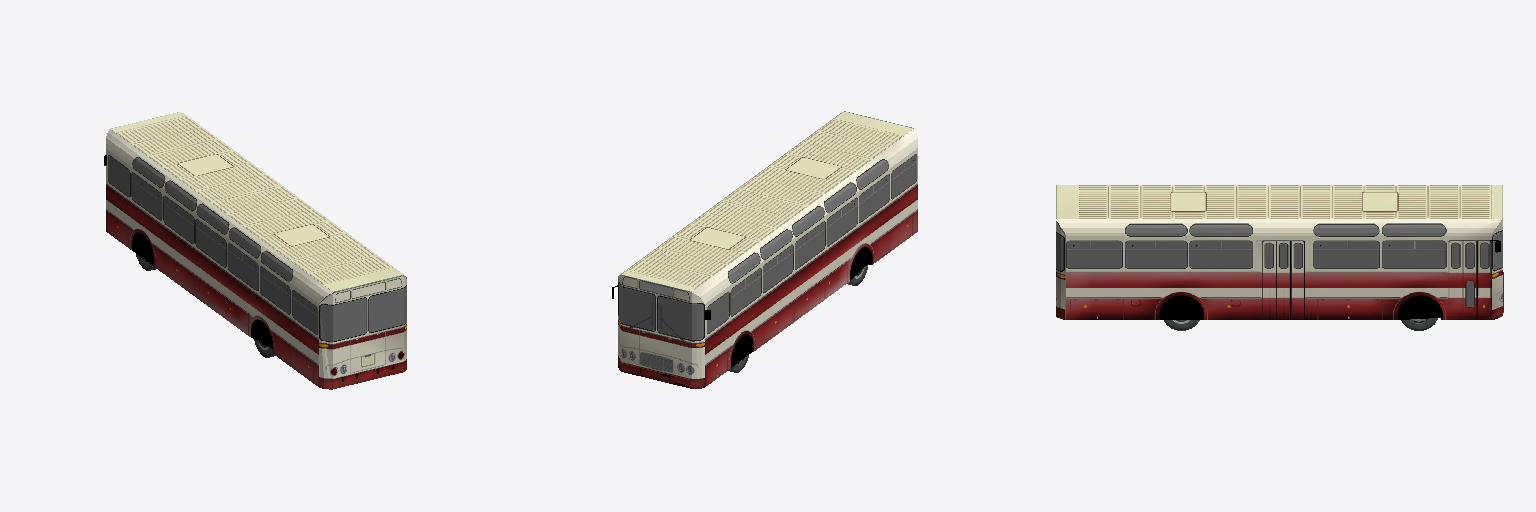
The picture shows the model from 3 angles: view 1: azimuth 30°, elevation 25°; view 2: azimuth 150°, elevation 25°; view 3: azimuth 270°, elevation 25°; orthographic projection.
Visible parts, largest first — view 1: Box018; view 2: Box018; view 3: Box018.
Part boxes in pixels (x1,y1,x2,y2): Box018: (104,112,406,389); Box018: (612,111,917,388); Box018: (1056,185,1503,319).
Bounding box in the file's own units: 3.19 × 3.47 × 13.02.
2 materials, 2 textured.